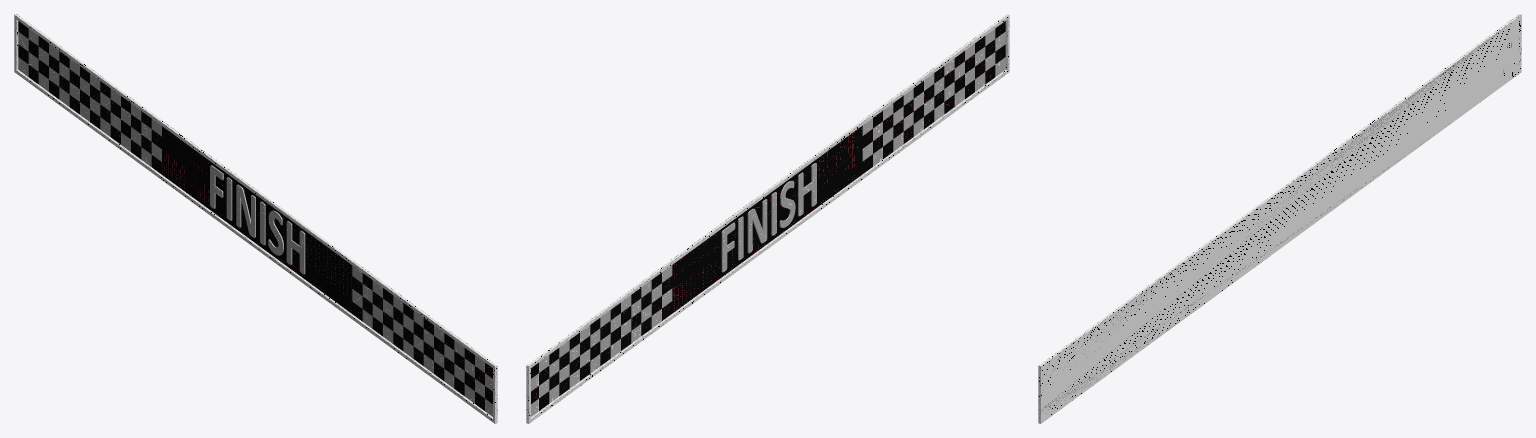
The model's file is @Tag.FinishLine.obj.
The picture shows the model from 3 angles, left to right: view 1: azimuth 30°, elevation 25°; view 2: azimuth 150°, elevation 25°; view 3: azimuth 330°, elevation 25°; orthographic projection.
Parts seen in each view (by area): view 1: FinishLine; view 2: FinishLine; view 3: FinishLine.
Boxes of the visible parts, x1=… form: FinishLine: x1=14, y1=14, x2=497, y2=423; FinishLine: x1=526, y1=14, x2=1009, y2=423; FinishLine: x1=1038, y1=14, x2=1521, y2=423.
Bounding box in the file's own units: 0.155 × 3.2 × 48.45.
1 material, 1 textured.
